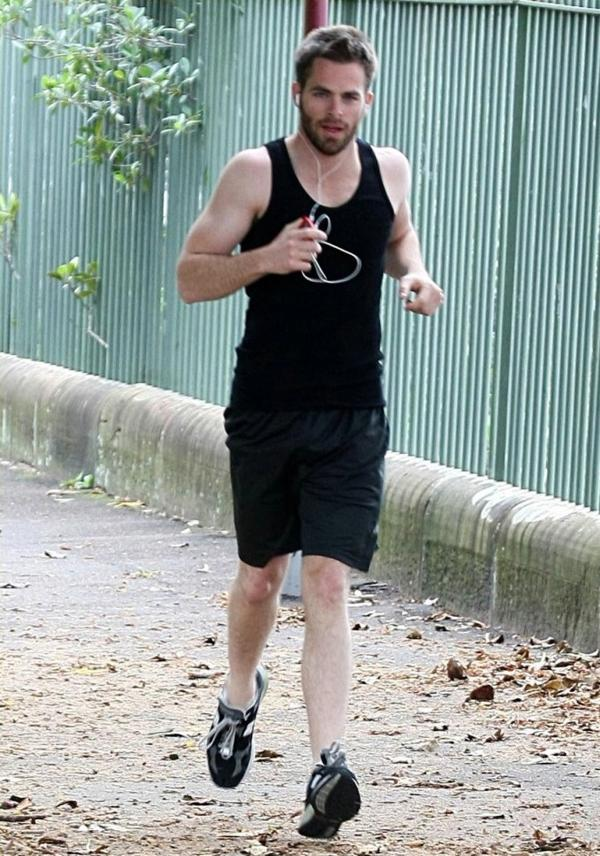person: (178, 24, 445, 842)
